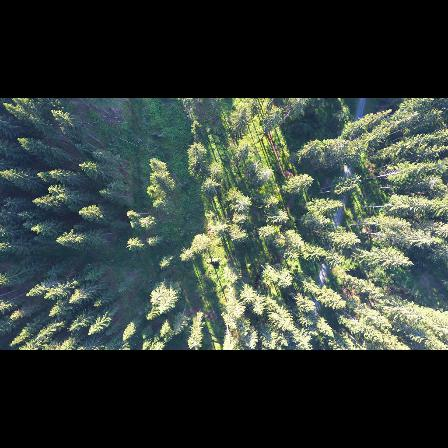Sick: (207, 161, 226, 176), (258, 164, 276, 179)
